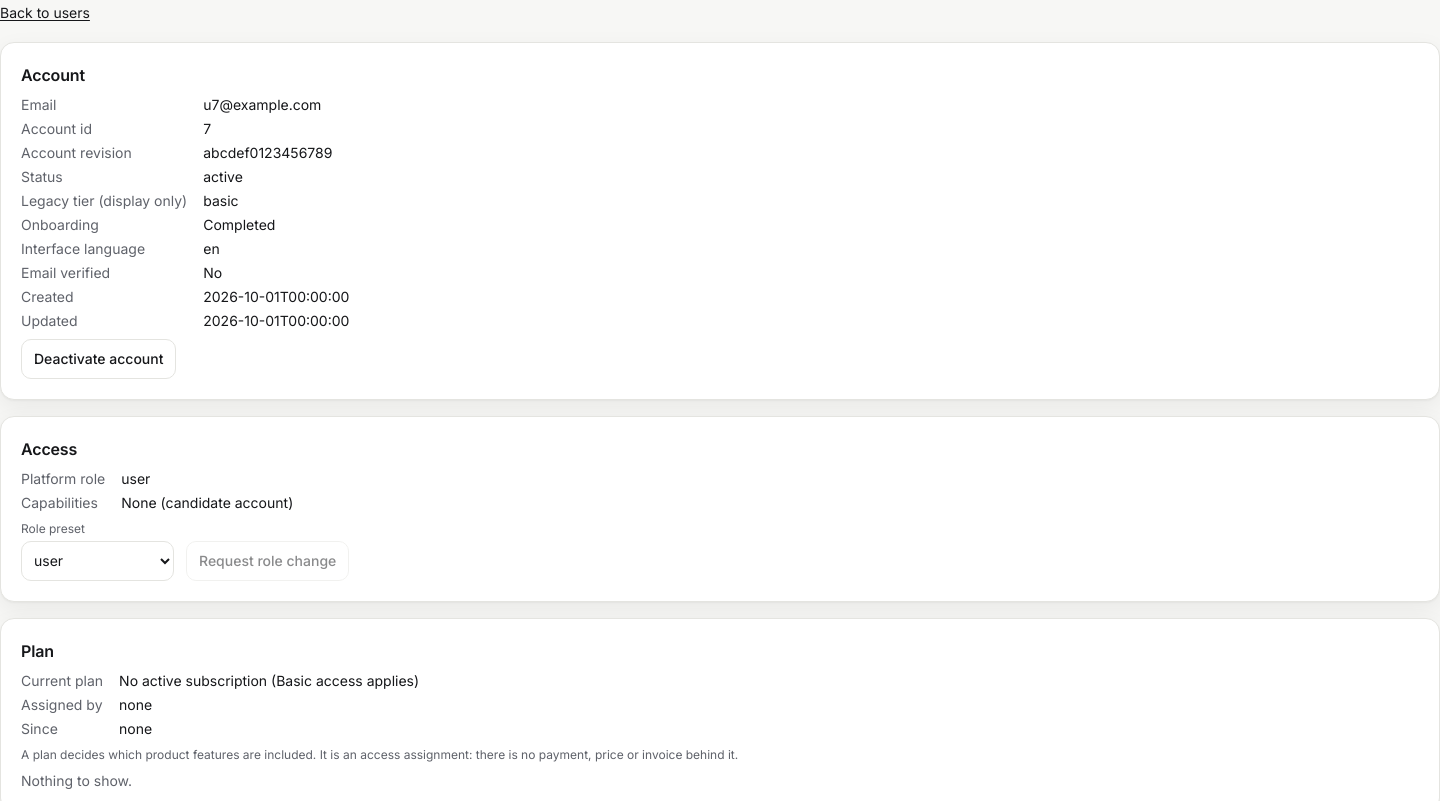
User detail › deactivation dialog defaults focus to Cancel, confirms once and reports sessions ended
The image size is (1440, 801).
Click the button "Deactivate account" at (99, 359), box [21,339,176,379]
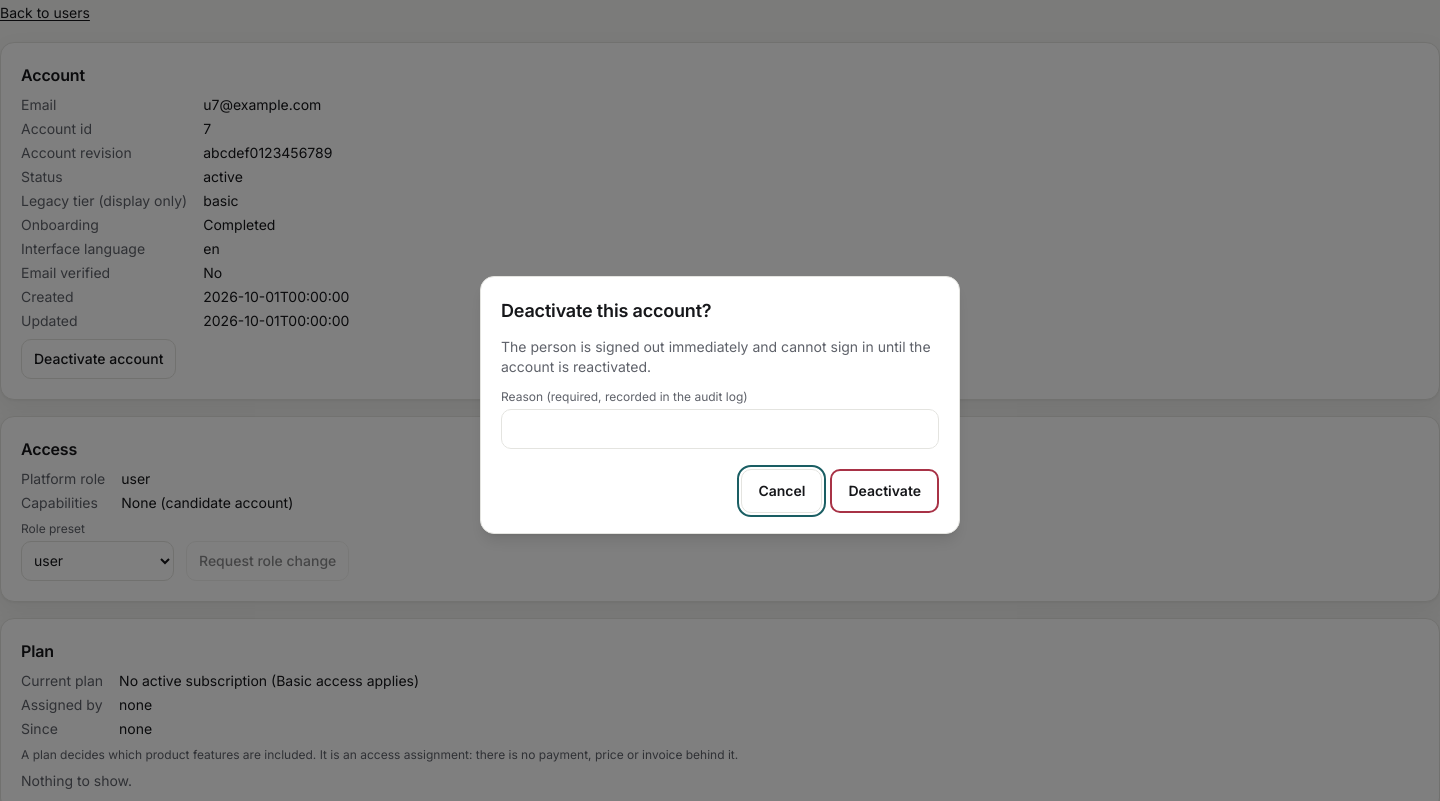
Type "abuse report" into the field labelled "Reason (required, recorded in the audit log)" at (720, 429), box [501,409,939,449]
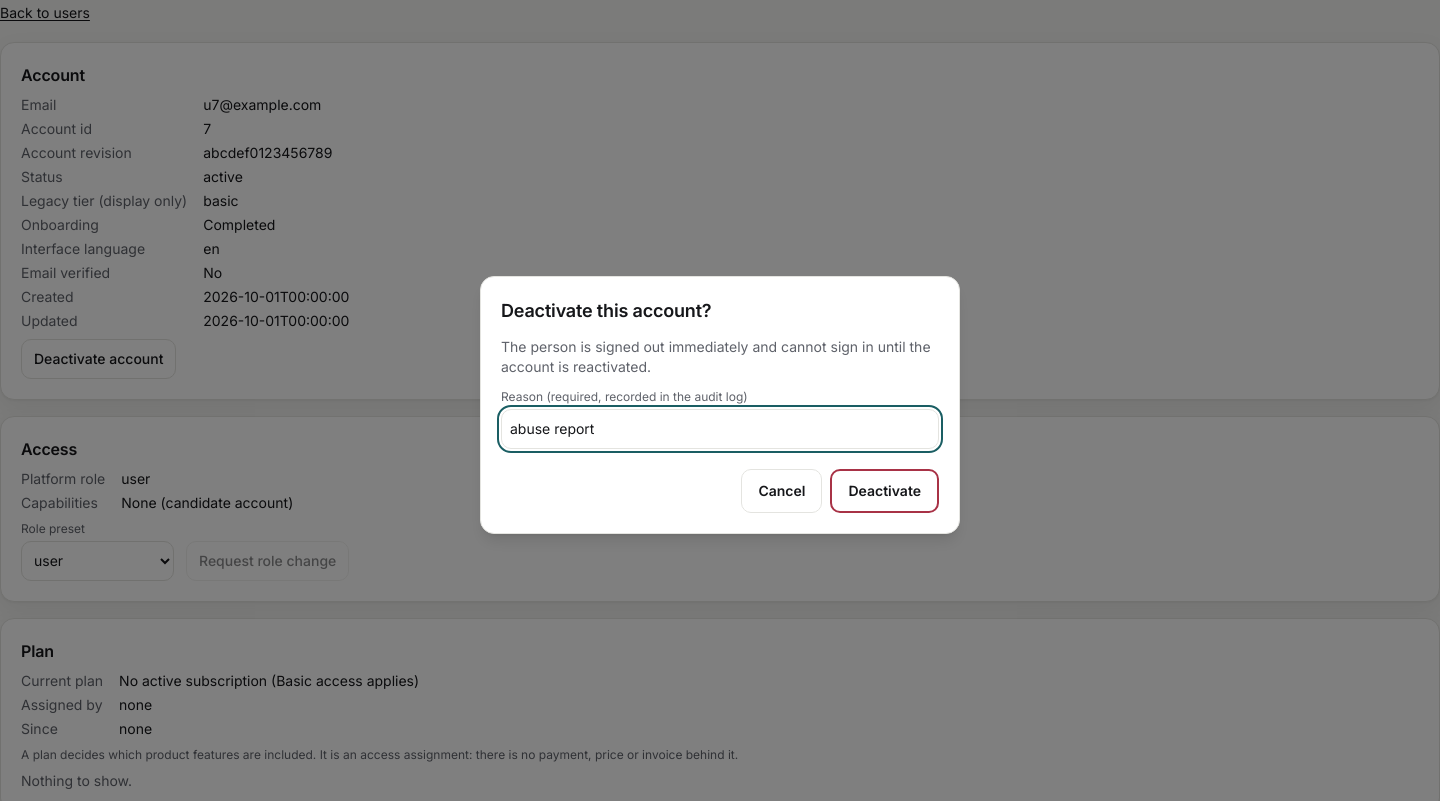
Click the button "Deactivate" at (885, 491), box [830,469,939,513]
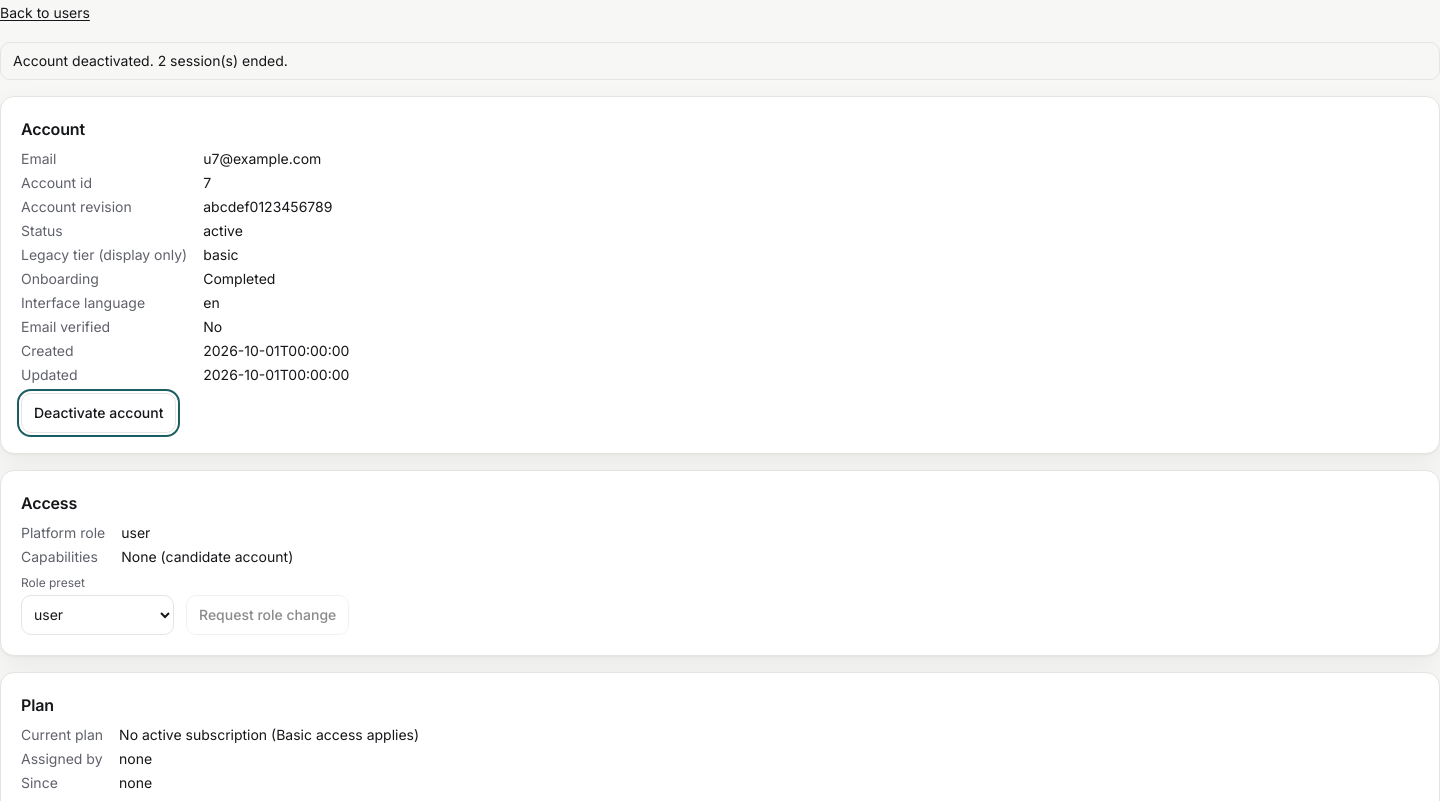
Expected: the text "Account deactivated. 2 session(s) ended." is shown, [0,42,1439,80]
